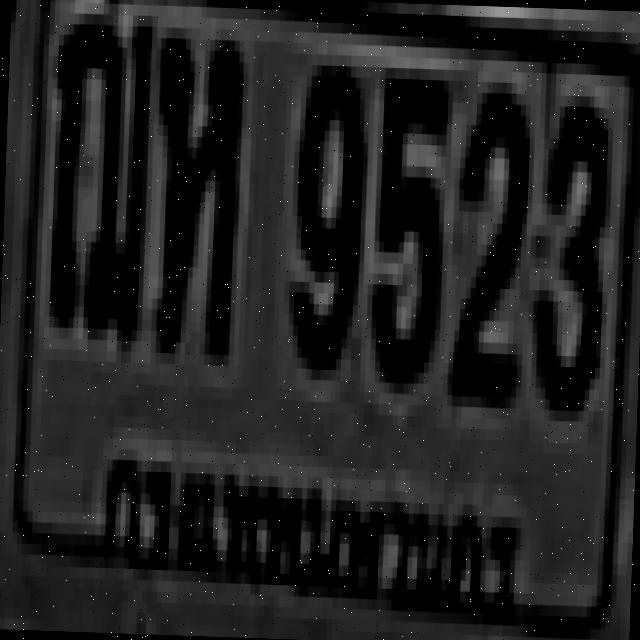2: (447, 75, 526, 392)
21ChorChoe: (44, 1, 153, 330)
3: (525, 94, 609, 400)
5: (364, 67, 444, 373)
50HorHeep: (150, 27, 240, 344)
9: (287, 53, 361, 359)
Bangkok: (90, 416, 529, 636)
